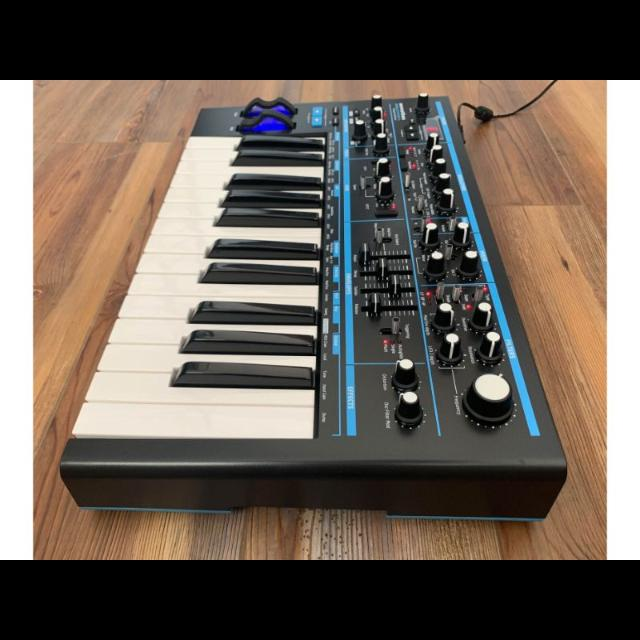Electronic-Keyboard: (55, 96, 571, 518)
